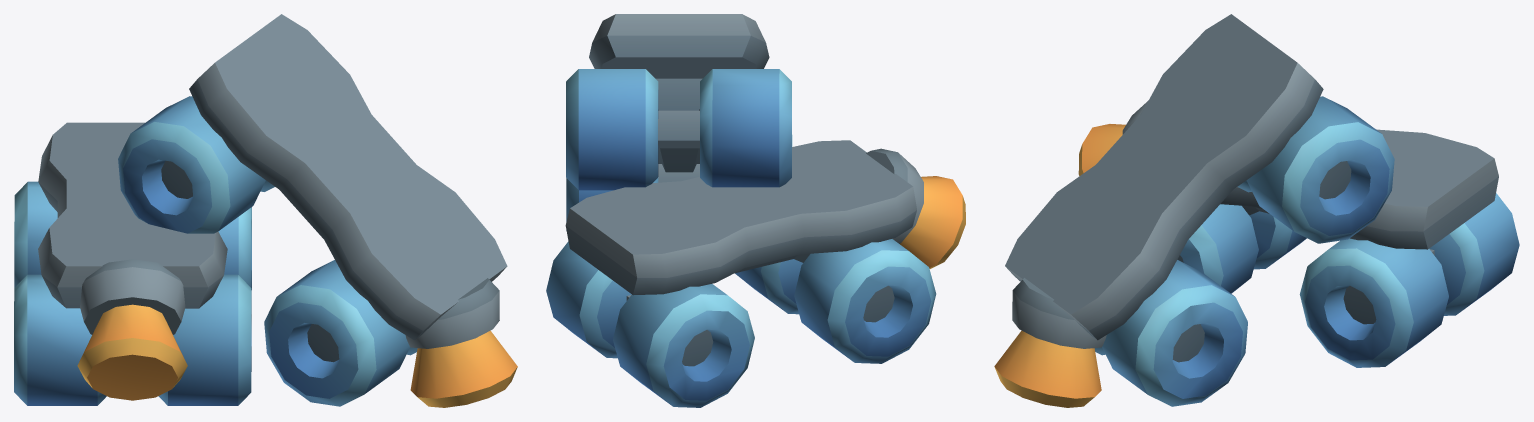
Rendered from rollerskate_pair.glb.
3 views of the same model, side by side, from view 1: azimuth 30°, elevation 25°; view 2: azimuth 150°, elevation 25°; view 3: azimuth 270°, elevation 25° (orthographic). The views are drawn at different scales.
Visible parts, largest first — view 1: rollerskate_pair; view 2: rollerskate_pair; view 3: rollerskate_pair.
Boxes of the visible parts, x1=… form: rollerskate_pair: x1=14, y1=14, x2=517, y2=407; rollerskate_pair: x1=546, y1=14, x2=965, y2=407; rollerskate_pair: x1=994, y1=14, x2=1519, y2=407.
Size of the model in its own units: 0.5561 by 0.3913 by 0.5975.
1 material, 1 textured.
